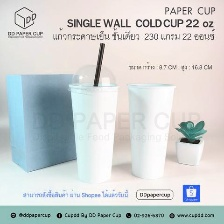book: (2, 68, 83, 175)
drinking_straw: (89, 40, 109, 88)
paper_cup: (64, 78, 122, 186), (123, 78, 178, 182)
